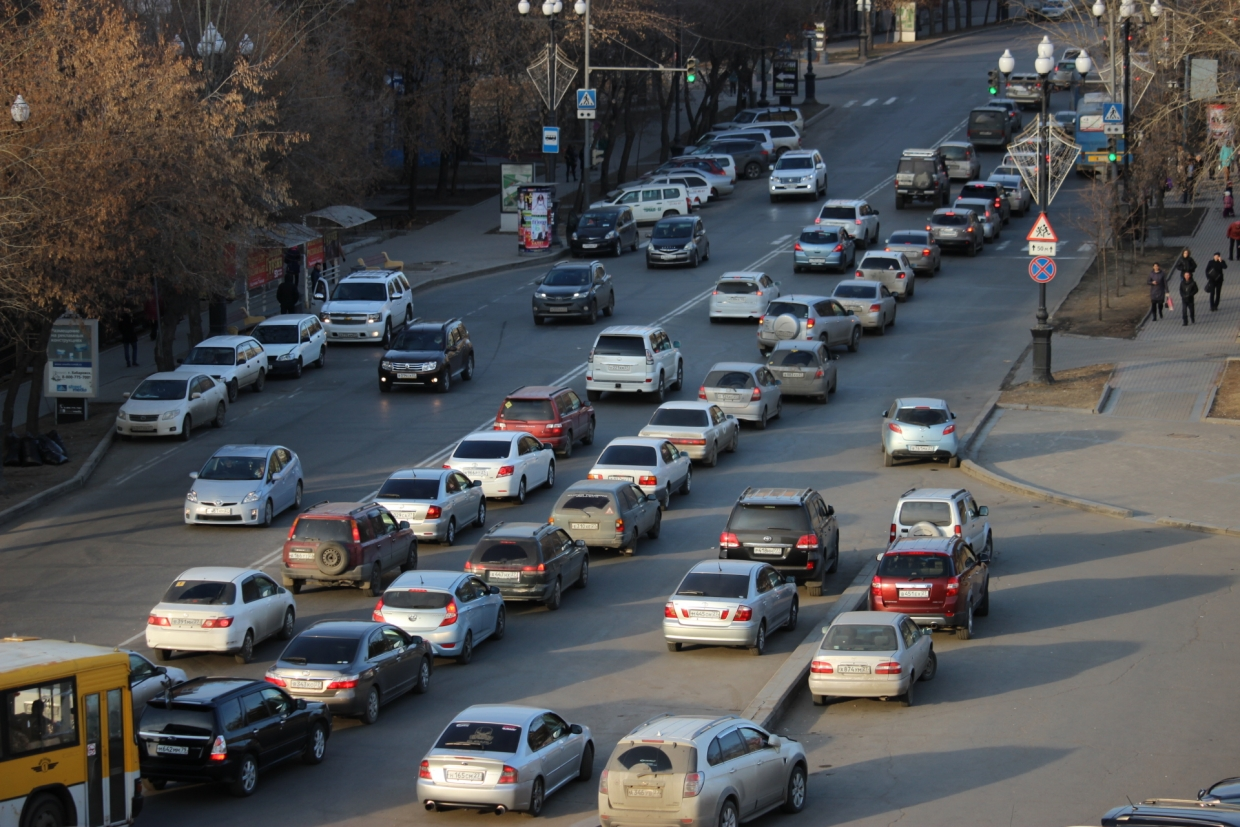Car: (0, 637, 144, 827), (598, 715, 807, 827), (138, 677, 332, 796), (417, 704, 595, 816), (265, 618, 434, 723), (145, 566, 296, 664), (718, 487, 840, 597), (662, 559, 799, 655), (281, 501, 418, 596), (371, 569, 505, 663), (867, 537, 989, 639), (807, 611, 937, 706), (464, 522, 589, 609), (184, 443, 304, 526), (373, 467, 486, 545), (548, 479, 662, 556), (442, 430, 556, 505), (309, 269, 415, 346), (115, 371, 229, 440), (585, 324, 684, 403), (888, 488, 993, 562), (587, 436, 692, 510), (493, 386, 596, 458), (378, 317, 475, 391), (637, 401, 739, 466), (757, 294, 863, 354), (175, 335, 269, 402), (697, 361, 782, 429), (120, 649, 188, 732), (881, 397, 959, 467), (532, 260, 615, 325), (1075, 92, 1135, 177), (251, 314, 328, 378), (765, 339, 840, 402), (590, 183, 692, 222), (616, 167, 735, 200), (1101, 799, 1240, 827), (566, 205, 639, 257), (708, 271, 781, 322), (831, 279, 899, 333), (645, 214, 710, 268), (895, 148, 950, 209), (688, 140, 771, 180), (814, 199, 880, 249), (683, 128, 777, 163), (606, 173, 714, 203), (768, 149, 828, 203), (728, 121, 803, 163), (854, 250, 917, 299), (711, 106, 807, 138), (925, 207, 987, 256), (793, 225, 855, 273), (884, 229, 941, 278), (957, 181, 1012, 229), (952, 198, 1004, 243), (966, 106, 1016, 151), (636, 157, 726, 180), (1010, 138, 1057, 181), (937, 141, 982, 183), (986, 174, 1031, 216), (676, 153, 738, 183), (1005, 73, 1054, 110), (1001, 151, 1044, 190), (988, 165, 1037, 198), (1197, 776, 1240, 807), (986, 99, 1024, 132), (1102, 24, 1142, 53), (1052, 111, 1076, 150), (1051, 59, 1080, 91), (1040, 0, 1074, 20), (1050, 121, 1067, 159), (1131, 64, 1146, 95), (1130, 52, 1154, 71), (688, 188, 700, 212), (1062, 46, 1081, 60)
